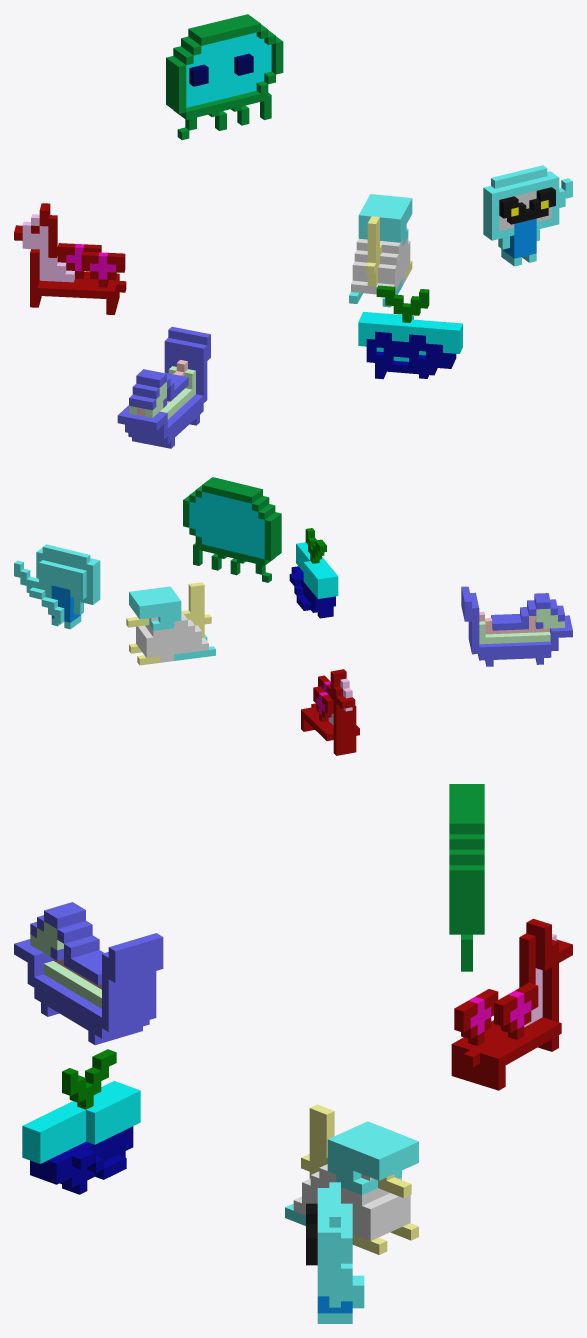
File: pixelverse.glb
The picture shows the model from 3 angles, top to bottom: view 1: azimuth 30°, elevation 25°; view 2: azimuth 150°, elevation 25°; view 3: azimuth 270°, elevation 25°; orthographic projection. The views are drawn at different scales.
Parts seen in each view (by area): view 1: Untitled.005, Untitled.004, Untitled.003, Untitled.001, Untitled.002, Untitled; view 2: Untitled.005, Untitled.004, Untitled, Untitled.002, Untitled.003, Untitled.001; view 3: Untitled.004, Untitled, Untitled.003, Untitled.001, Untitled.002, Untitled.005.
Part boxes in pixels (<box>): Untitled.005: <box>166,14,283,140</box>; Untitled.004: <box>117,326,210,448</box>; Untitled.003: <box>14,203,126,314</box>; Untitled.001: <box>358,285,462,379</box>; Untitled.002: <box>483,165,572,266</box>; Untitled: <box>349,194,412,307</box>; Untitled.005: <box>183,477,281,582</box>; Untitled.004: <box>461,586,572,666</box>; Untitled: <box>126,582,215,665</box>; Untitled.002: <box>14,544,100,629</box>; Untitled.003: <box>301,669,359,755</box>; Untitled.001: <box>289,528,338,618</box>; Untitled.004: <box>14,902,163,1045</box>; Untitled: <box>285,1104,418,1254</box>; Untitled.003: <box>451,918,572,1090</box>; Untitled.001: <box>22,1049,140,1194</box>; Untitled.002: <box>306,1182,364,1323</box>; Untitled.005: <box>449,784,484,971</box>.
Size of the model in its own units: 7.47 by 3.29 by 4.77.
6 materials, 6 textured.
